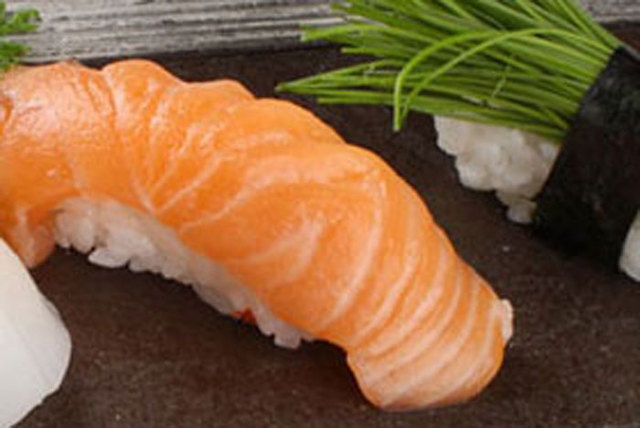salmon: (2, 59, 517, 419)
